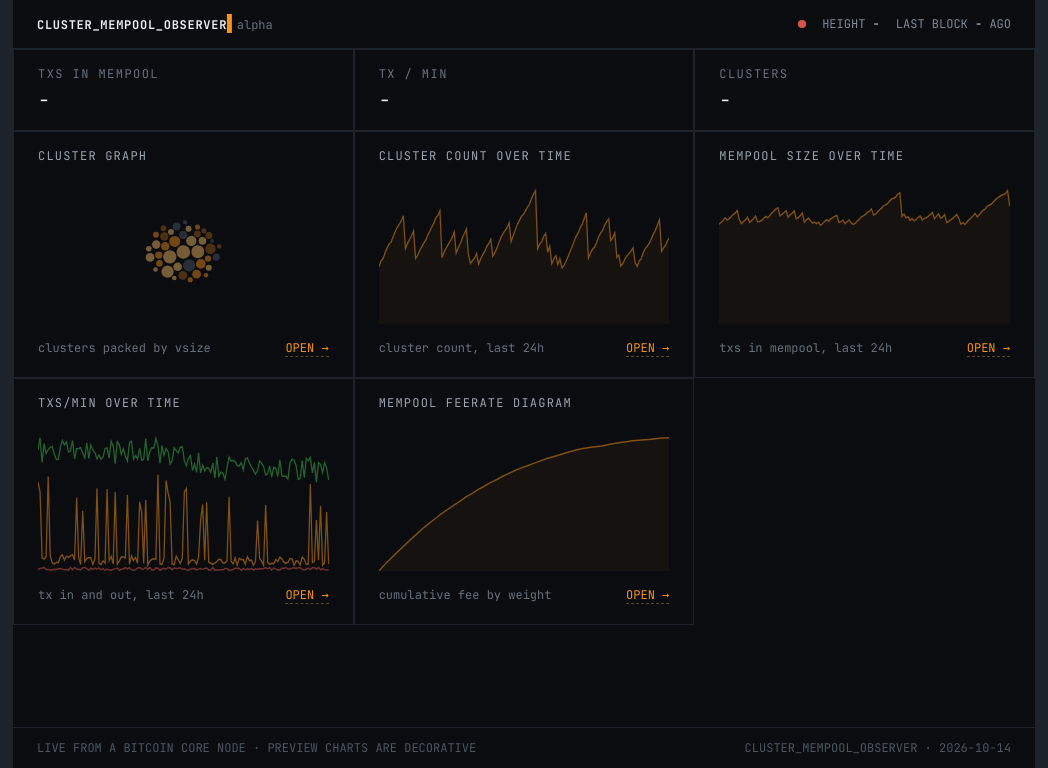
it: Home preview cards: navigation › opens the txs/min screen from its card
This screenshot has width=1048, height=768.
Click the button "TXS/MIN OVER TIME tx in and out, last 24h OPEN →".
click(183, 502)  # box [13, 378, 354, 625]
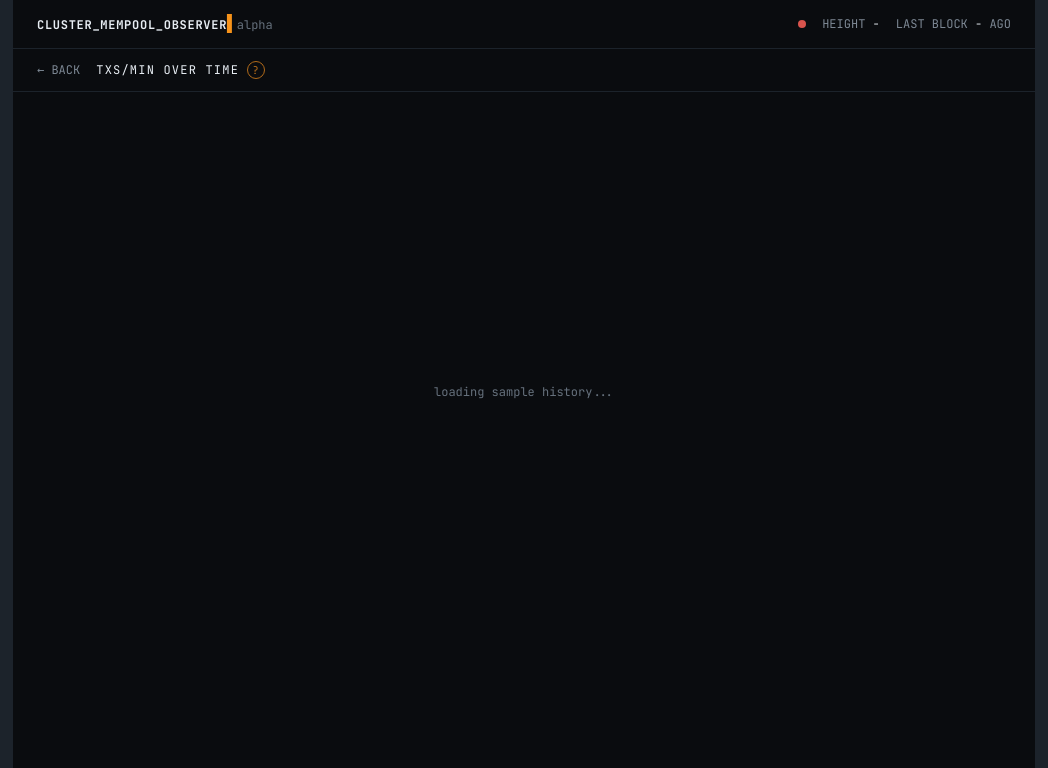
Now the element showing "← BACK TXS/MIN OVER TIME ? loading sample history..." is shown
